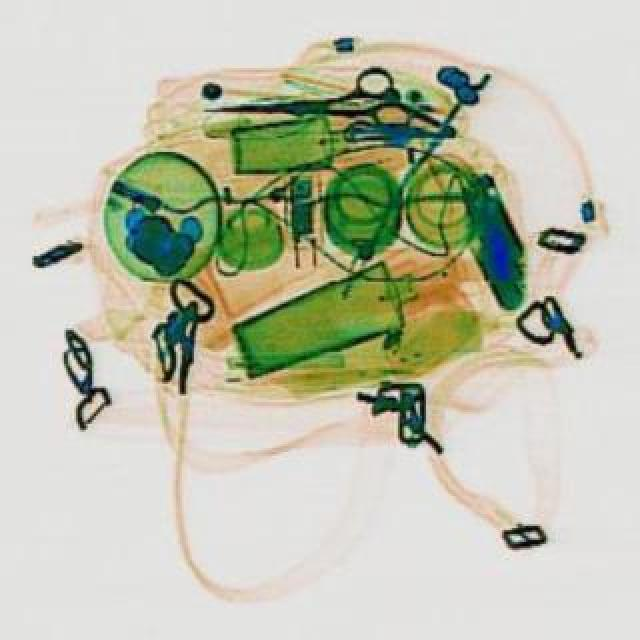pliers: (198, 62, 410, 138)
